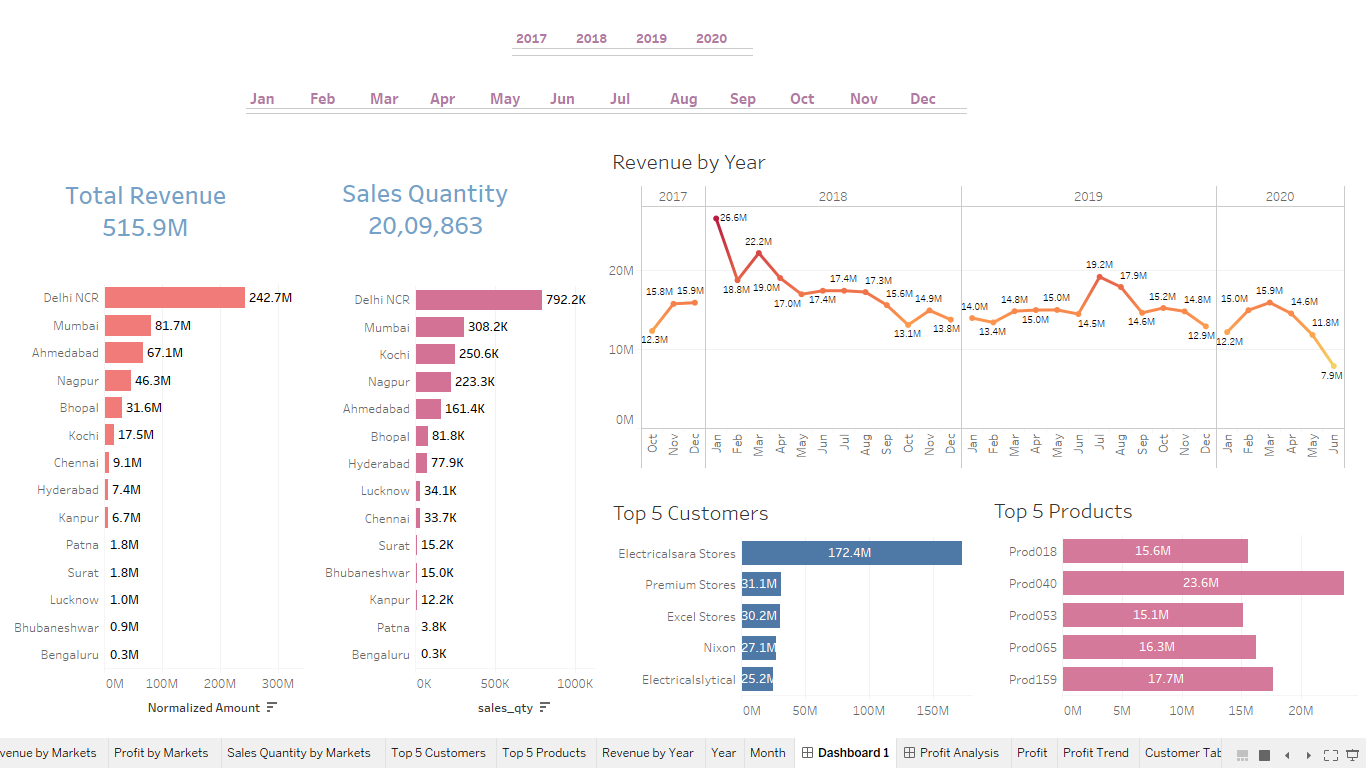

This screenshot's page, from the dashboard's own definition file:
{"tool":"tableau","page":{"name":"Dashboard 1","canvas":[1000,1000],"units":"permille","ordinal":0},"visuals":[{"type":"worksheet","title":"Year","mark":"Automatic","cols":["cy_date"],"box":[374.9,17.1,211.3,111.3]},{"type":"worksheet","title":"Month","mark":"Automatic","cols":["cy_date"],"box":[180.1,119.9,651.1,63.4]},{"type":"worksheet","title":"Revenue by Year","mark":"Automatic","rows":["Calculation_199284321555251200"],"cols":["cy_date","cy_date"],"box":[445,193.5,539.4,441.8]},{"type":"worksheet","title":"Quantity","mark":"Automatic","box":[245.9,238,176.6,113]},{"type":"worksheet","title":"Revenue","mark":"Automatic","box":[40.7,241.4,168.8,119.9]},{"type":"worksheet","title":"Revenue by Markets","mark":"Automatic","rows":["markets_name"],"cols":["Calculation_199284321555251200"],"box":[8.7,385.3,213.8,594.2]},{"type":"worksheet","title":"Sales Quantity by Markets","mark":"Automatic","rows":["markets_name"],"cols":["sales_qty"],"box":[230.3,387,206.1,592.5]},{"type":"worksheet","title":"Top 5 Products","mark":"Automatic","rows":["product_code (products)"],"cols":["Calculation_199284321555251200"],"box":[724.7,666.1,269.3,315.1]},{"type":"worksheet","title":"Top 5 Customers","mark":"Automatic","rows":["custmer_name"],"cols":["Calculation_199284321555251200"],"box":[445.9,669.5,266.7,313.4]}]}

Visuals, with their boxes on the dashboard's canvas, which has no fixed pixel size, in thousandths of its width and height (x1, y1, x2, y2). These are canvas units, not pixel positions in the 1366x768 screenshot, which may show the page scaled, cropped or inside an application window:
"Year" worksheet: 375,17,586,128
"Month" worksheet: 180,120,831,183
"Revenue by Year" worksheet: 445,194,984,635
"Quantity" worksheet: 246,238,422,351
"Revenue" worksheet: 41,241,210,361
"Revenue by Markets" worksheet: 9,385,222,980
"Sales Quantity by Markets" worksheet: 230,387,436,980
"Top 5 Products" worksheet: 725,666,994,981
"Top 5 Customers" worksheet: 446,670,713,983
